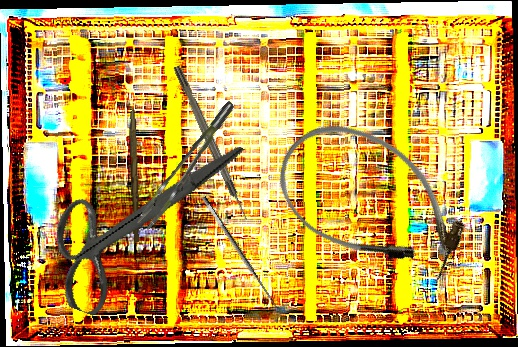Cannula: (258, 99, 486, 303)
Hook Surgical: (173, 64, 250, 223), (200, 190, 290, 315)
Iris Scissors: (30, 95, 248, 347)
Scalpel Handle: (126, 110, 142, 243)
Tissue Forceps: (125, 100, 251, 232)
